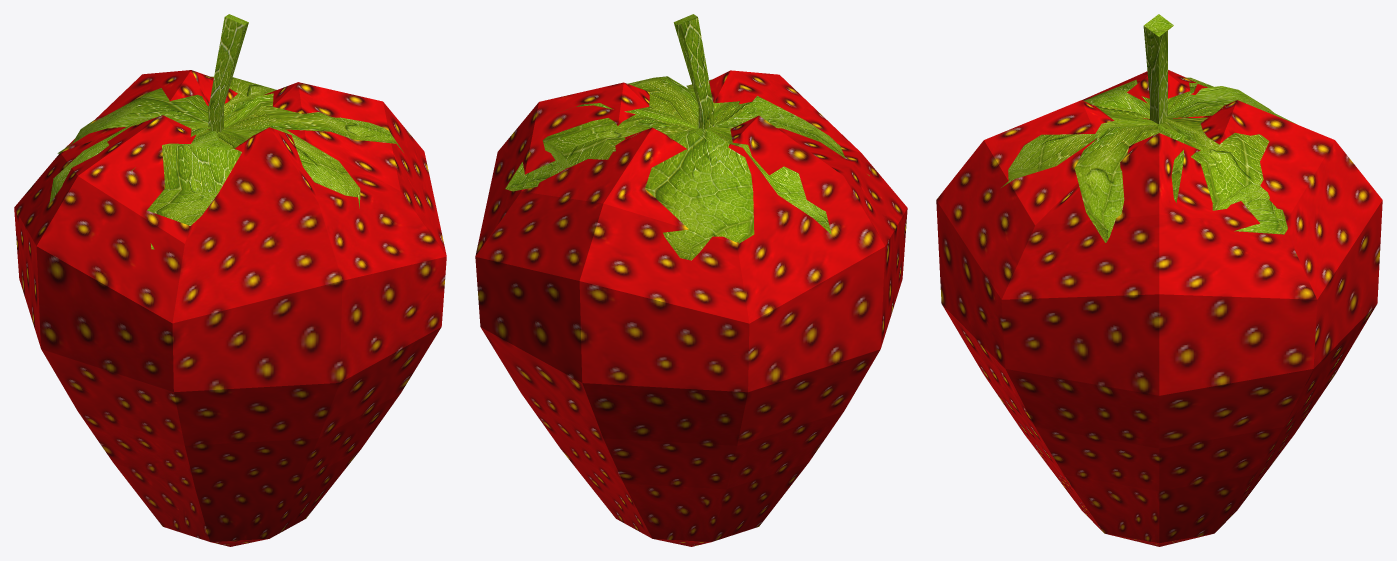
File: fresa.fbx
3 views of the same model, side by side, from view 1: azimuth 30°, elevation 25°; view 2: azimuth 150°, elevation 25°; view 3: azimuth 270°, elevation 25° (orthographic).
Visible parts, largest first — view 1: pSphere2, pPlane2, pPlane6, pasted__pPlane6, pPlane1, pCylinder1, pasted__pPlane1, pPlane5; view 2: pSphere2, pasted__pPlane6, pPlane5, pPlane6, pCylinder1, pPlane2, pasted__pPlane1; view 3: pSphere2, pPlane5, pPlane6, pPlane1, pCylinder1, pasted__pPlane6, pPlane2.
Boxes of the visible parts, x1,y1,x2,y2 form: pSphere2: (14,70,446,546); pPlane2: (147,129,241,249); pPlane6: (224,93,403,152); pasted__pPlane6: (57,88,208,153); pPlane1: (221,127,360,208); pCylinder1: (208,14,248,132); pasted__pPlane1: (49,118,211,203); pPlane5: (207,76,276,126); pSphere2: (475,70,907,546); pasted__pPlane6: (645,128,754,260); pPlane5: (505,114,695,191); pPlane6: (576,76,698,128); pCylinder1: (673,14,714,130); pPlane2: (714,95,869,175); pasted__pPlane1: (708,124,831,234); pSphere2: (936,70,1382,546); pPlane5: (1162,117,1287,234); pPlane6: (1074,125,1184,242); pPlane1: (1001,110,1161,187); pCylinder1: (1143,14,1173,124); pasted__pPlane6: (1165,86,1297,124); pPlane2: (1084,79,1149,118).
Size of the model in its own units: 2.19 by 2.87 by 2.19.
